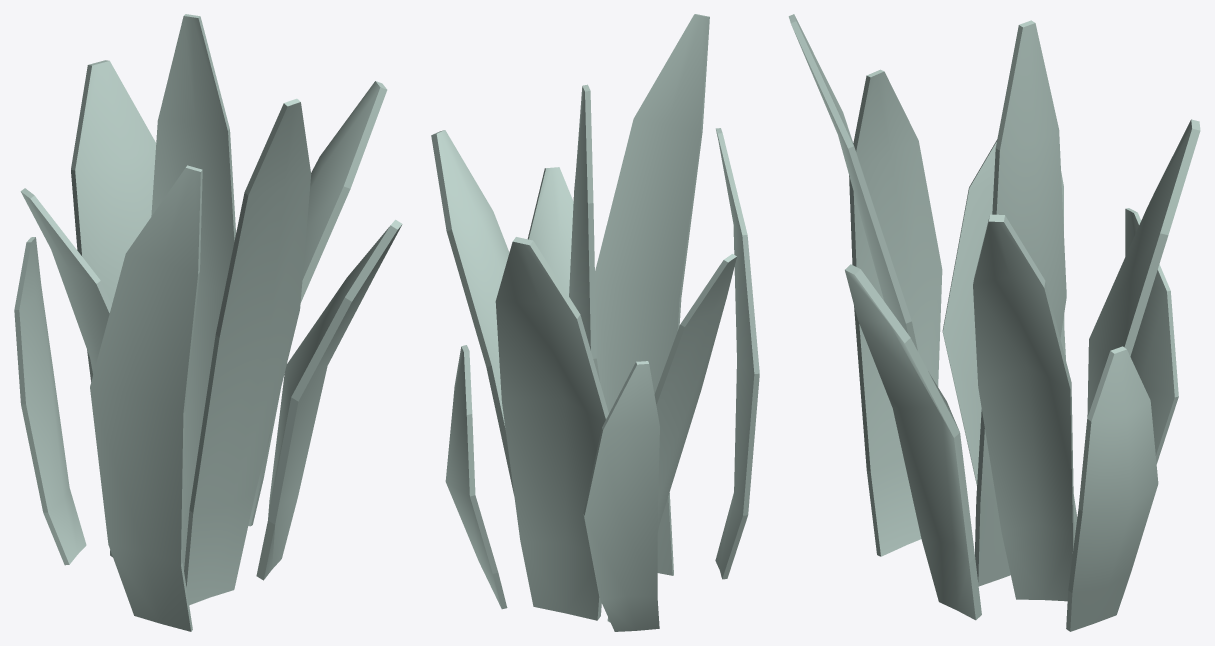
File: a_z1_grass_l.fbx
The picture shows the model from 3 angles, left to right: view 1: azimuth 30°, elevation 25°; view 2: azimuth 150°, elevation 25°; view 3: azimuth 270°, elevation 25°; orthographic projection. The views are drawn at different scales.
Visible parts, largest first — view 1: a_z1_grass_l; view 2: a_z1_grass_l; view 3: a_z1_grass_l.
Boxes of the visible parts, left/top/right/bottom form: a_z1_grass_l: left=14, top=14, right=402, bottom=631; a_z1_grass_l: left=431, top=14, right=759, bottom=631; a_z1_grass_l: left=788, top=14, right=1200, bottom=631.
Size of the model in its own units: 66.86 by 102 by 67.05.
